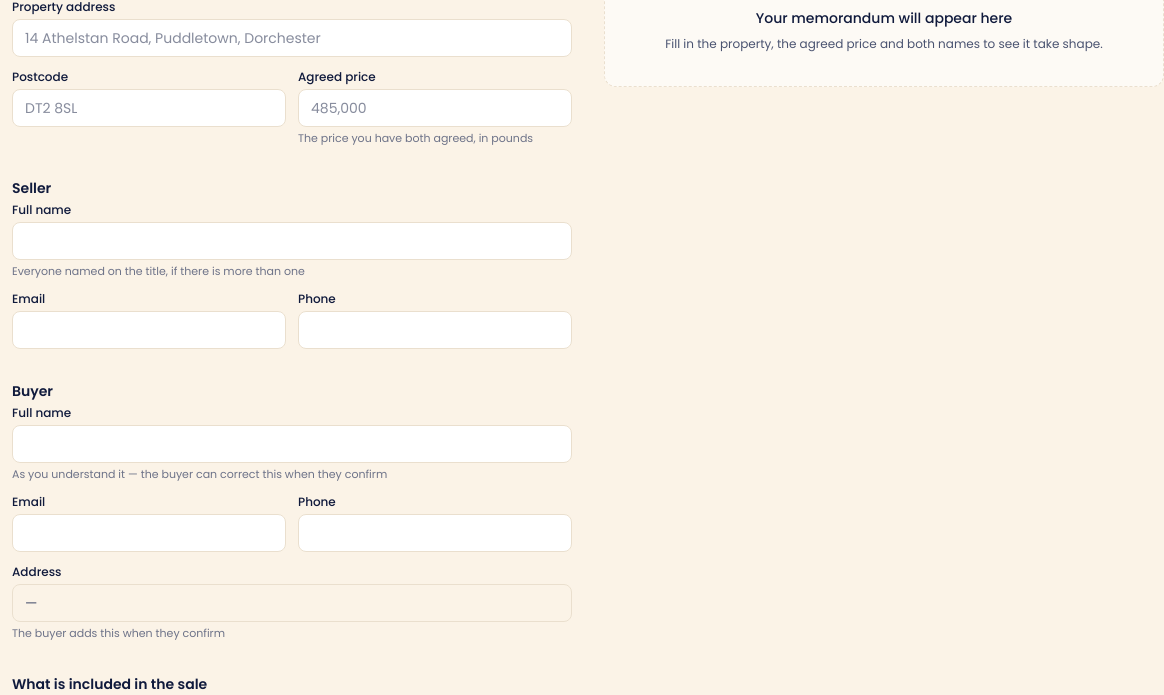
Test: acknowledging as the seller › points out a name mismatch without blocking it
Type "14 Athelstan Road, Puddletown" into the field labelled "Property address" at (292, 38), box [12,19,572,57]
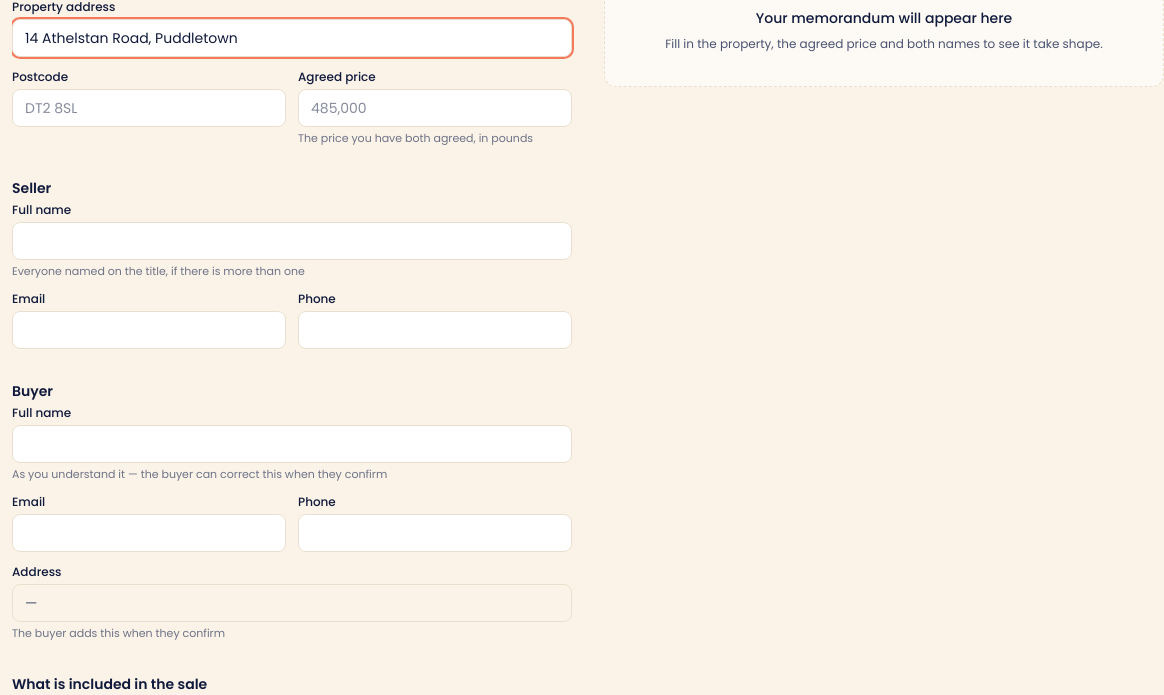
Type "485000" into the field labelled "Agreed price" at (435, 108), box [298,89,572,127]
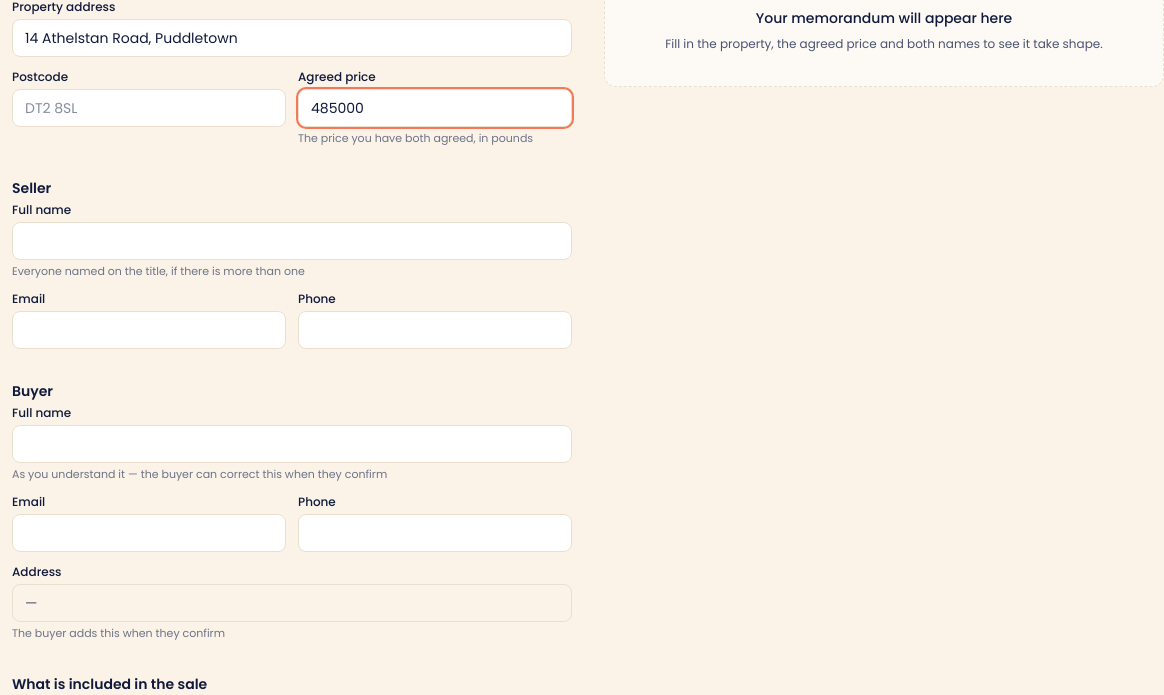
Type "William Boltwood" into the 1st field labelled "Full name" at (292, 241), box [12,222,572,260]
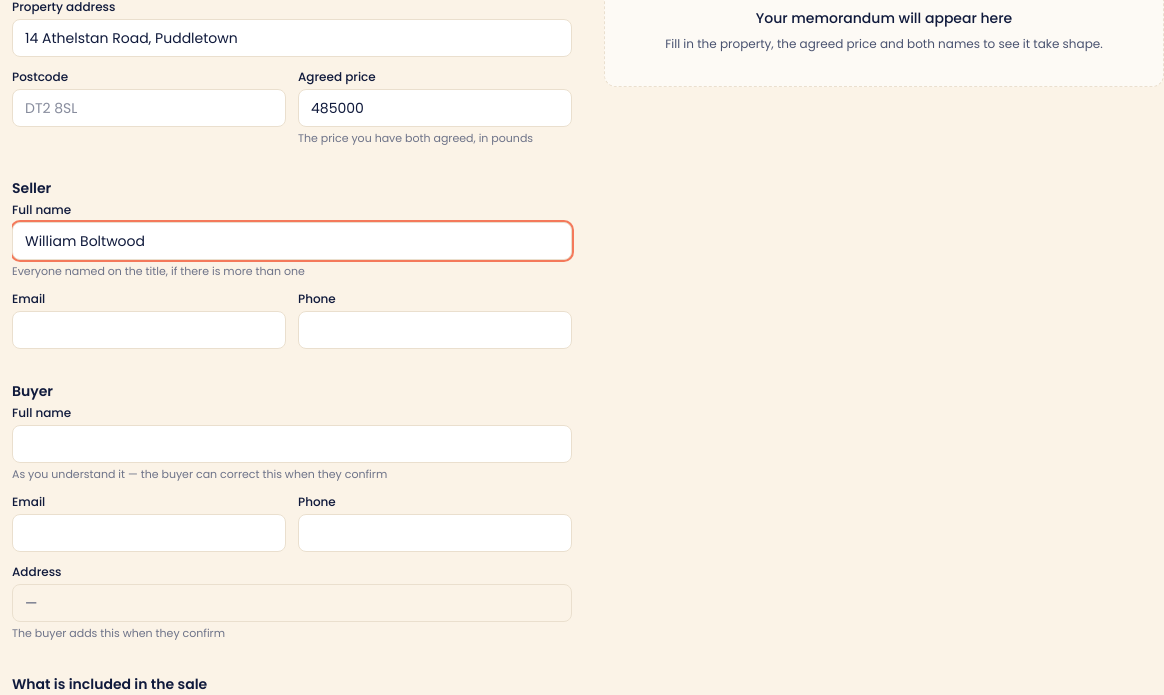
Type "James Law" into the 2nd field labelled "Full name" at (292, 444), box [12,425,572,463]
(page scrolled)
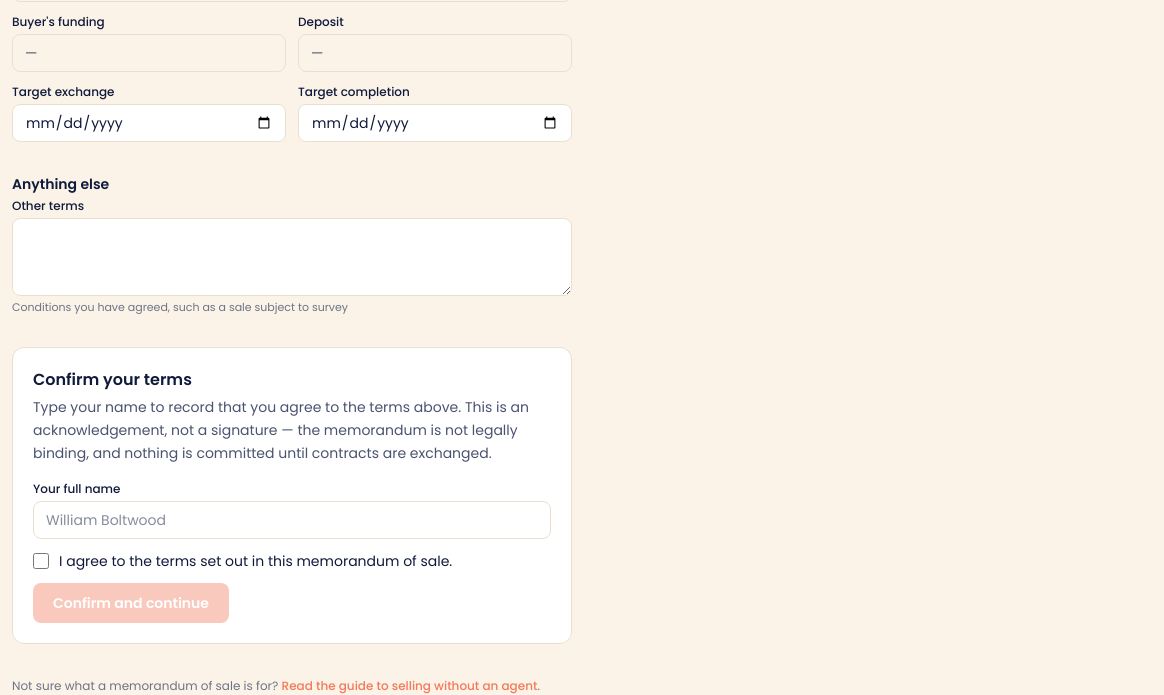
Type "Will Boltwood" into the field labelled "Your full name" at (292, 520), box [33,500,551,538]
(page scrolled)
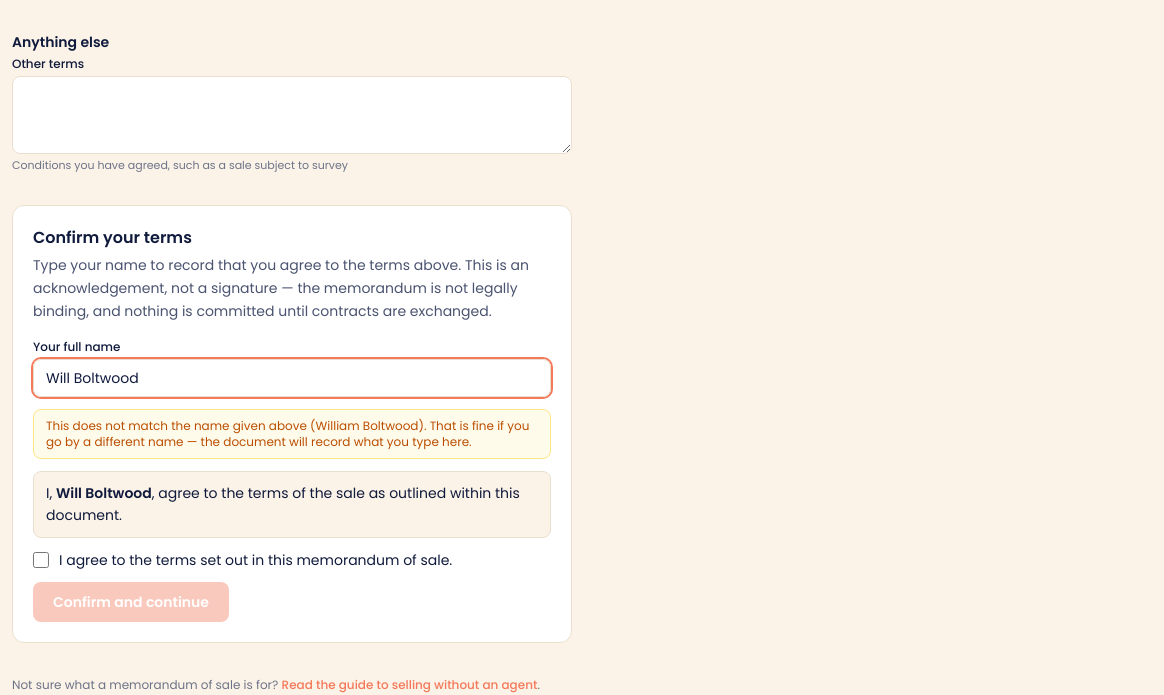
Now the text "does not match the name given above" is shown, box [46,416,316,434]
Click the checkbox at (41, 560), box [33,552,49,568]
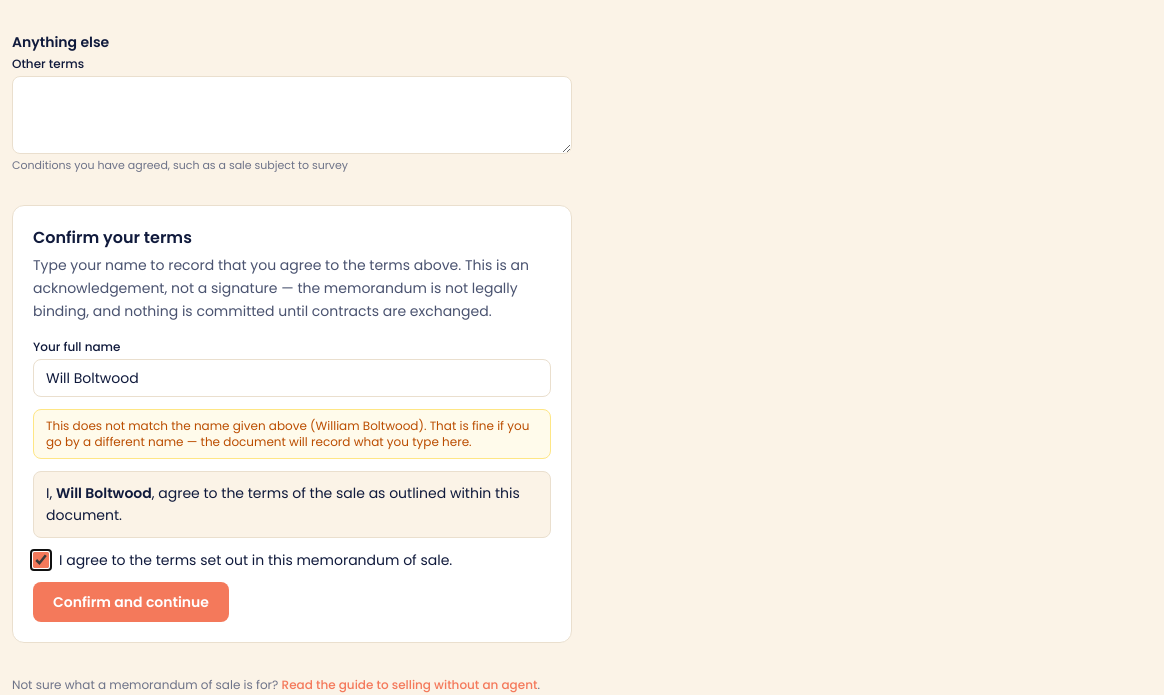
Now the button "Confirm and continue" is enabled, box [33,582,229,622]
